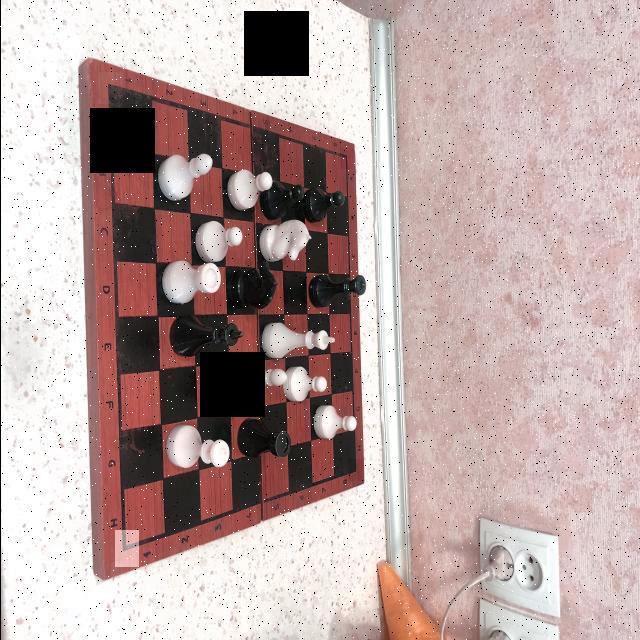chess-table-corners: (114, 530, 138, 567), (97, 72, 122, 104), (347, 459, 363, 481), (339, 148, 352, 169)
